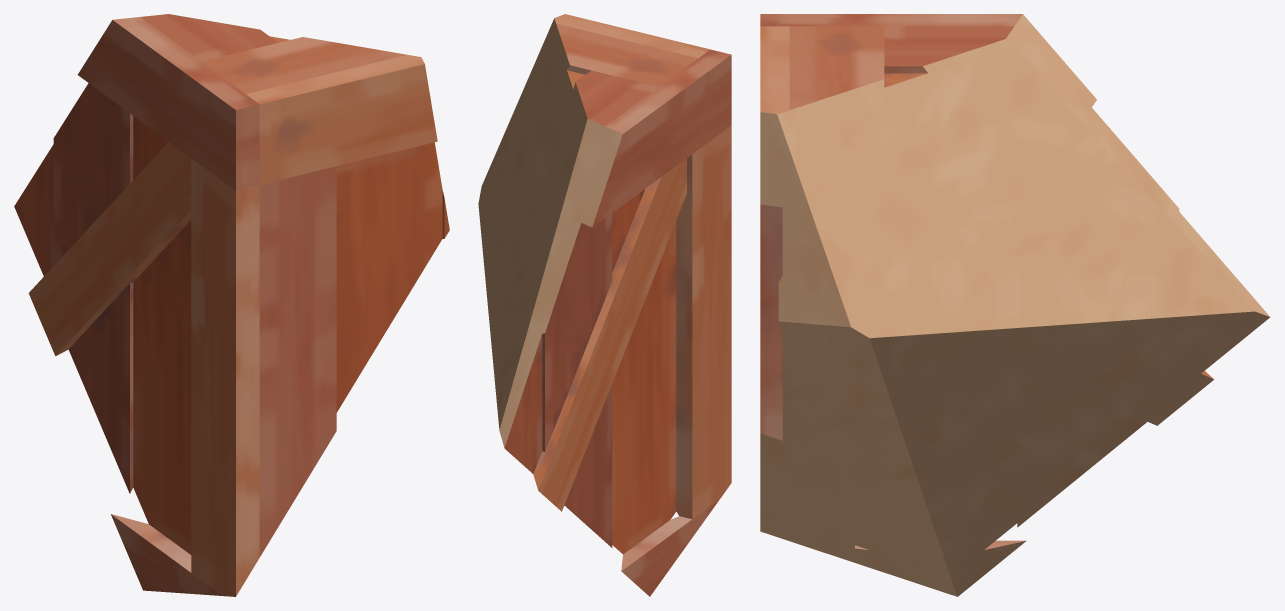
File: crate_s06.fbx
3 renders of one model, left to right at view 1: azimuth 30°, elevation 25°; view 2: azimuth 150°, elevation 25°; view 3: azimuth 270°, elevation 25°, orthographic. The views are drawn at different scales.
Visible parts, largest first — view 1: crate_s06; view 2: crate_s06; view 3: crate_s06.
Part boxes in pixels (<box>): crate_s06: <box>14,14,449,596</box>; crate_s06: <box>478,14,731,596</box>; crate_s06: <box>760,14,1270,596</box>.
Bounding box in the file's own units: 1.31 × 2.86 × 2.26.
